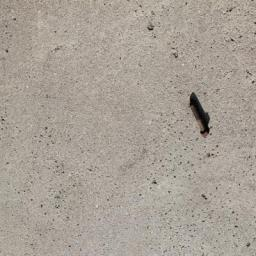FOD: (187, 92, 217, 140)
